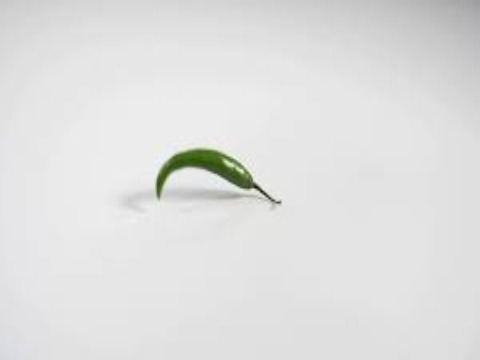Chilli: (138, 136, 290, 221)
